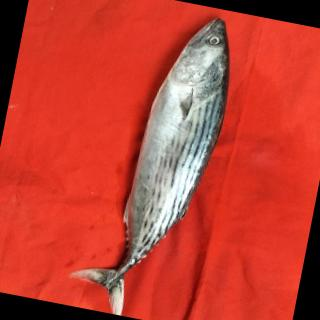Ikan: (67, 1, 245, 320)
